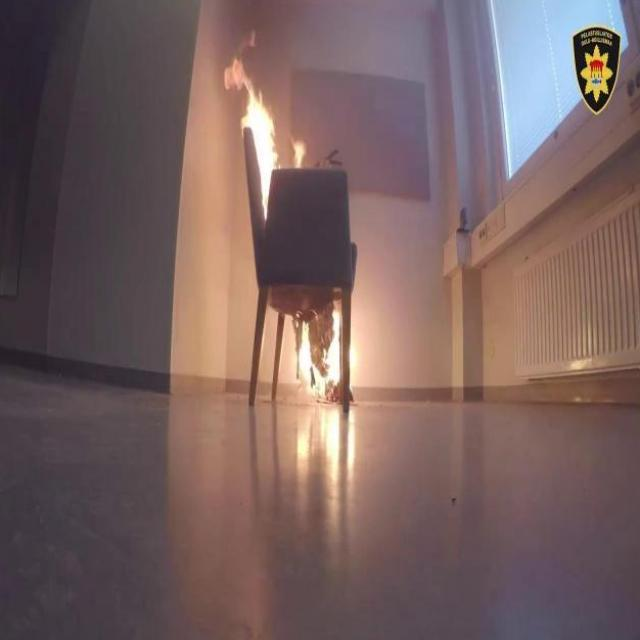smoke: (229, 38, 296, 225), (278, 304, 374, 409)
